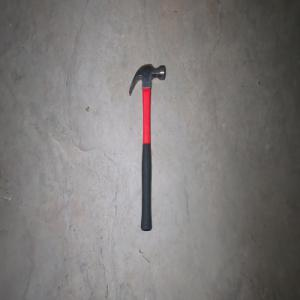Hammer: (128, 62, 166, 232)
